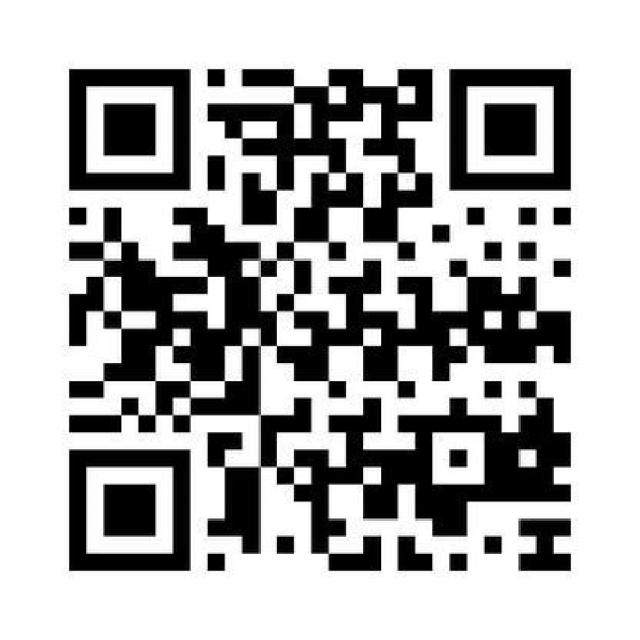QRCode: (57, 59, 588, 586)
